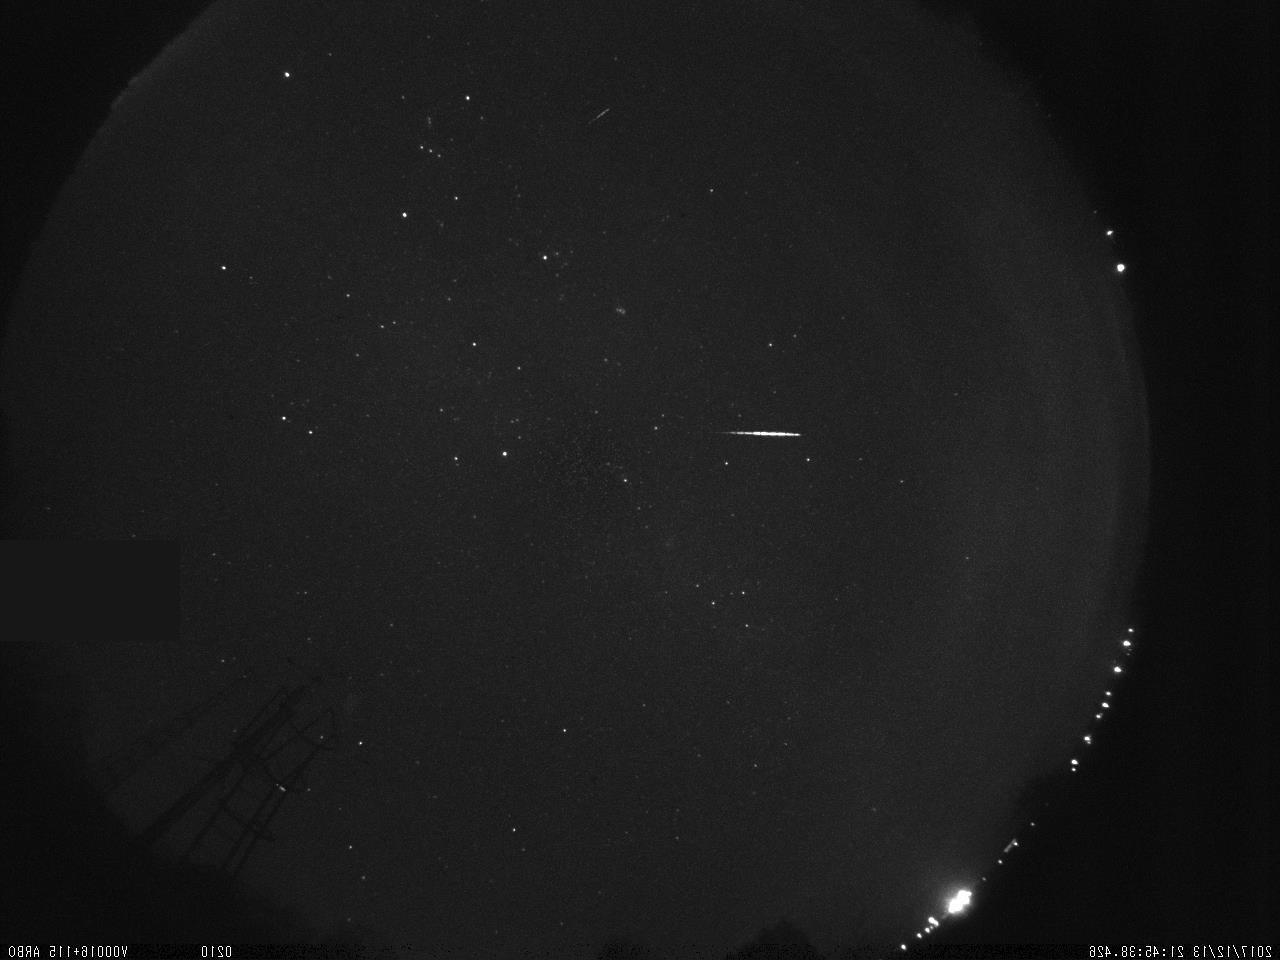meteor: (719, 419, 810, 444)
